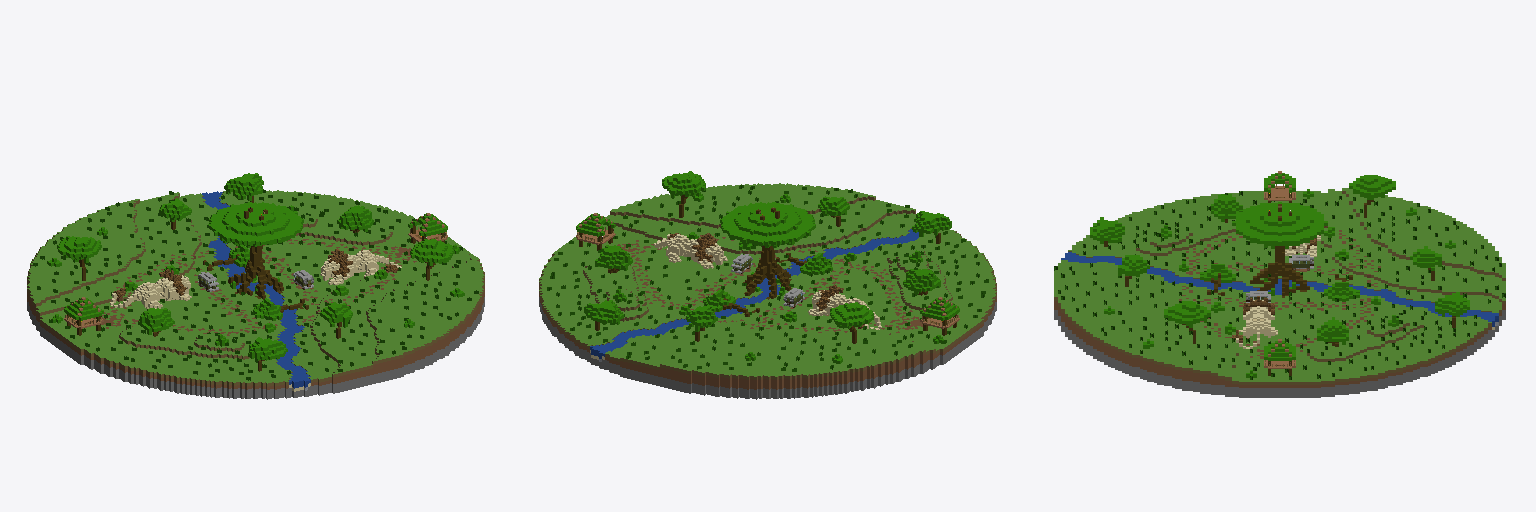
3 views of the same model, side by side, from view 1: azimuth 30°, elevation 25°; view 2: azimuth 150°, elevation 25°; view 3: azimuth 270°, elevation 25° (orthographic).
Bounding box in the file's own units: 127 × 29 × 127.
33 materials, 12 textured.